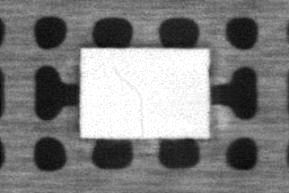DIE_CRACK: (113, 66, 146, 136)
